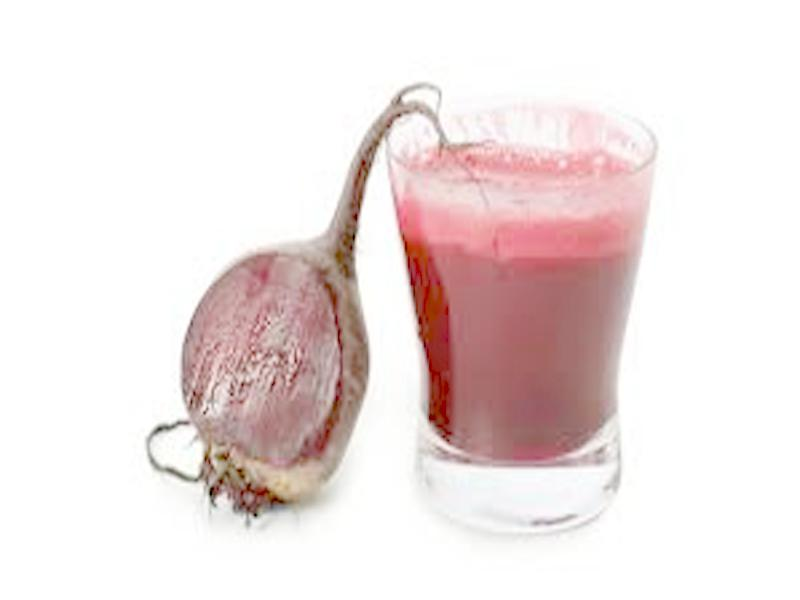Beet: (147, 82, 482, 521)
